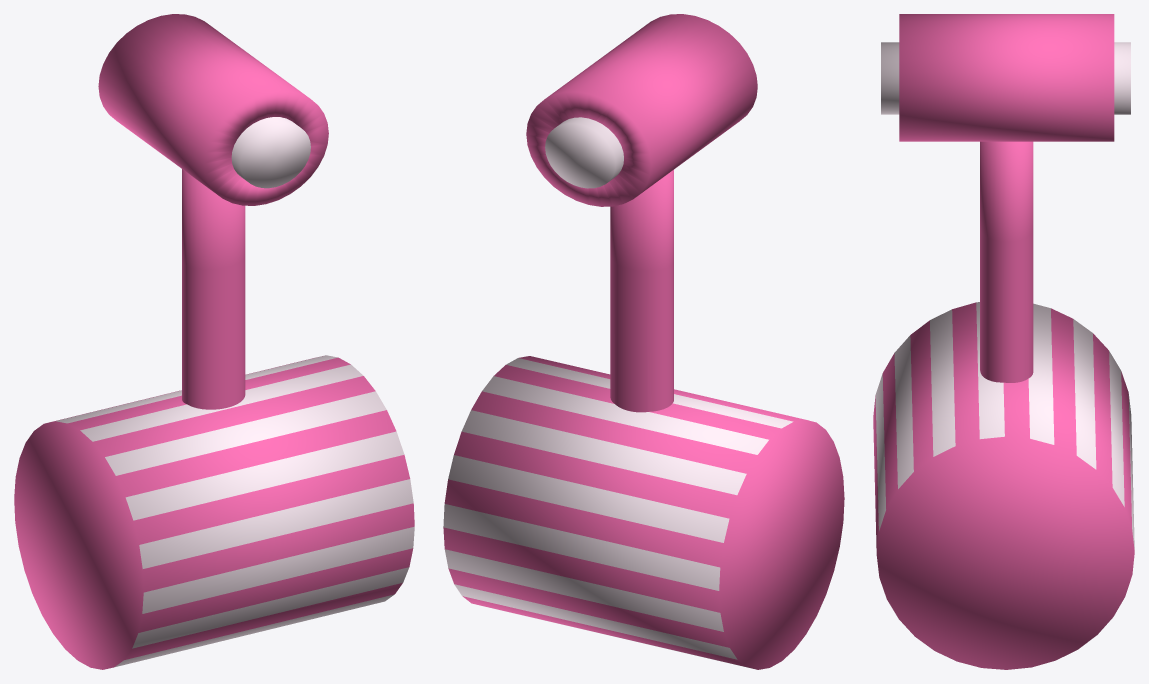
File: Martillo fall guys.fbx
3 renders of one model, left to right at view 1: azimuth 30°, elevation 25°; view 2: azimuth 150°, elevation 25°; view 3: azimuth 270°, elevation 25°, orthographic.
Parts seen in each view (by area): view 1: Cylinder.003, Cylinder, Cylinder.002, Cylinder.001; view 2: Cylinder.003, Cylinder, Cylinder.002, Cylinder.001; view 3: Cylinder.003, Cylinder, Cylinder.002, Cylinder.001.
Part boxes in pixels (x1,y1,x2,y2): Cylinder.003: (14, 355, 414, 669); Cylinder: (98, 14, 328, 205); Cylinder.002: (182, 169, 245, 409); Cylinder.001: (231, 117, 310, 188); Cylinder.003: (443, 356, 844, 669); Cylinder: (526, 14, 757, 206); Cylinder.002: (610, 170, 673, 412); Cylinder.001: (545, 117, 623, 188); Cylinder.003: (873, 302, 1134, 669); Cylinder: (899, 14, 1114, 141); Cylinder.002: (980, 141, 1033, 382); Cylinder.001: (881, 42, 1130, 114).
Size of the model in its own units: 250 by 497 by 203.
Materials: 4 (4 with a texture image).
